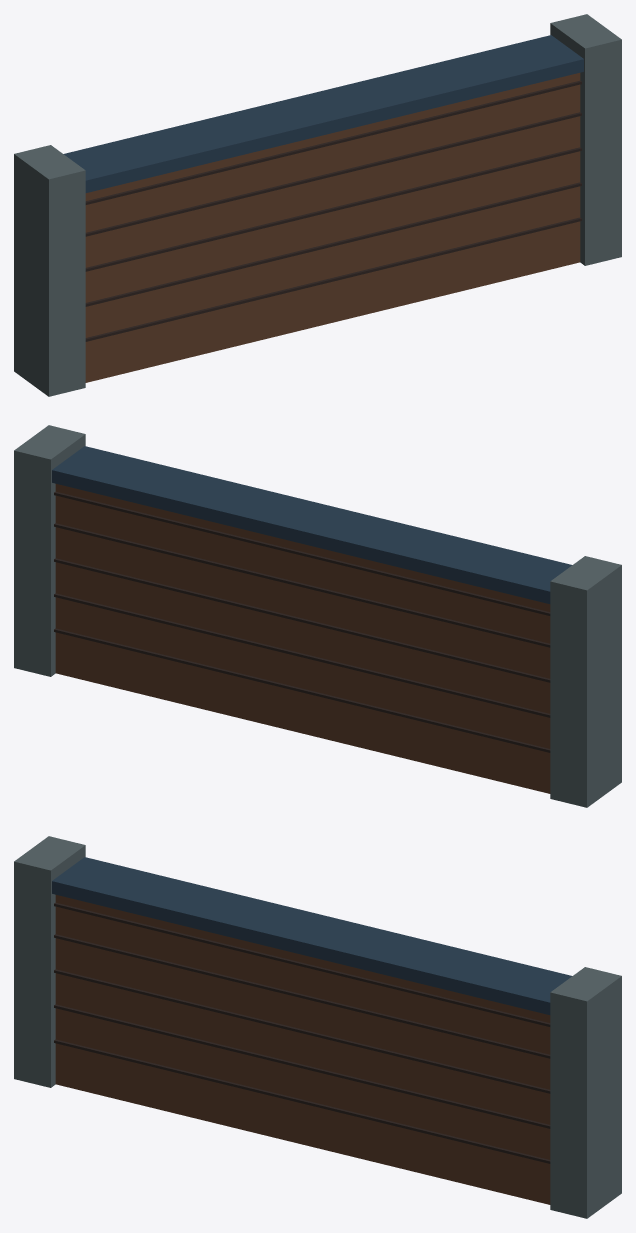
The model's file is PirateCove_BoundaryWall_Simple.glb.
3 views of the same model, one above another, from view 1: azimuth 30°, elevation 25°; view 2: azimuth 150°, elevation 25°; view 3: azimuth 330°, elevation 25° (orthographic).
Parts seen in each view (by area): view 1: PirateCove_BoundaryWall_Simple; view 2: PirateCove_BoundaryWall_Simple; view 3: PirateCove_BoundaryWall_Simple.
Part boxes in pixels (box(x1,y1,x2,y2)): PirateCove_BoundaryWall_Simple: box(14, 14, 621, 396); PirateCove_BoundaryWall_Simple: box(14, 425, 621, 807); PirateCove_BoundaryWall_Simple: box(14, 836, 621, 1218).
Size of the model in its own units: 8.55 by 3.1 by 0.9.
